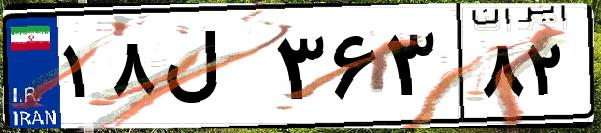1: (57, 26, 110, 100)
2: (525, 38, 570, 115)
3: (270, 28, 330, 110), (385, 28, 445, 110)
6: (330, 28, 385, 110)
8: (475, 38, 525, 113), (110, 28, 158, 98)
ل: (158, 20, 270, 120)
